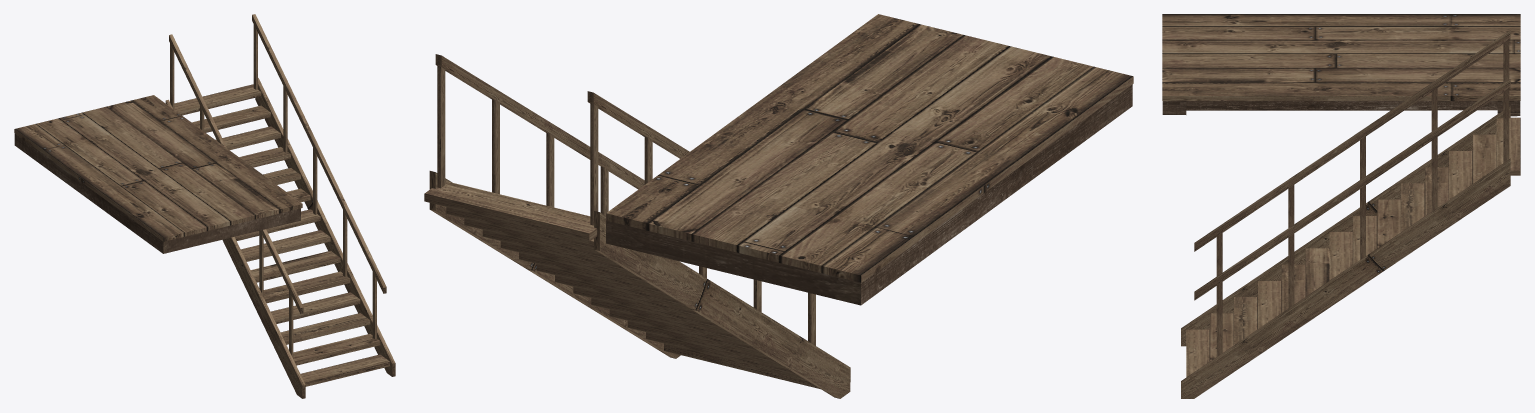
File: staircaseRight.dae
The picture shows the model from 3 angles, left to right: view 1: azimuth 30°, elevation 25°; view 2: azimuth 150°, elevation 25°; view 3: azimuth 270°, elevation 25°; orthographic projection. The views are drawn at different scales.
Visible parts, largest first — view 1: Floor, Staircase; view 2: Floor, Staircase; view 3: Staircase, Floor.
Part boxes in pixels (<box>): Floor: <box>14,95,302,253</box>; Staircase: <box>165,14,395,398</box>; Floor: <box>606,14,1133,305</box>; Staircase: <box>424,54,850,398</box>; Staircase: <box>1181,30,1520,398</box>; Floor: <box>1162,14,1520,116</box>.
Bounding box in the file's own units: 3.73 × 3.9 × 4.
Materials: 2 (2 with a texture image).
